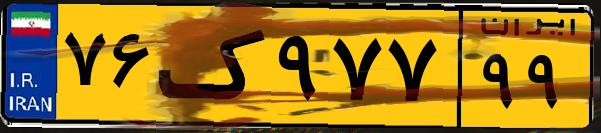6: (110, 28, 158, 98)
7: (385, 28, 445, 110), (330, 28, 385, 110), (57, 26, 110, 100)
9: (270, 28, 330, 110), (475, 38, 525, 113), (525, 38, 570, 115)
ک: (158, 12, 270, 120)
